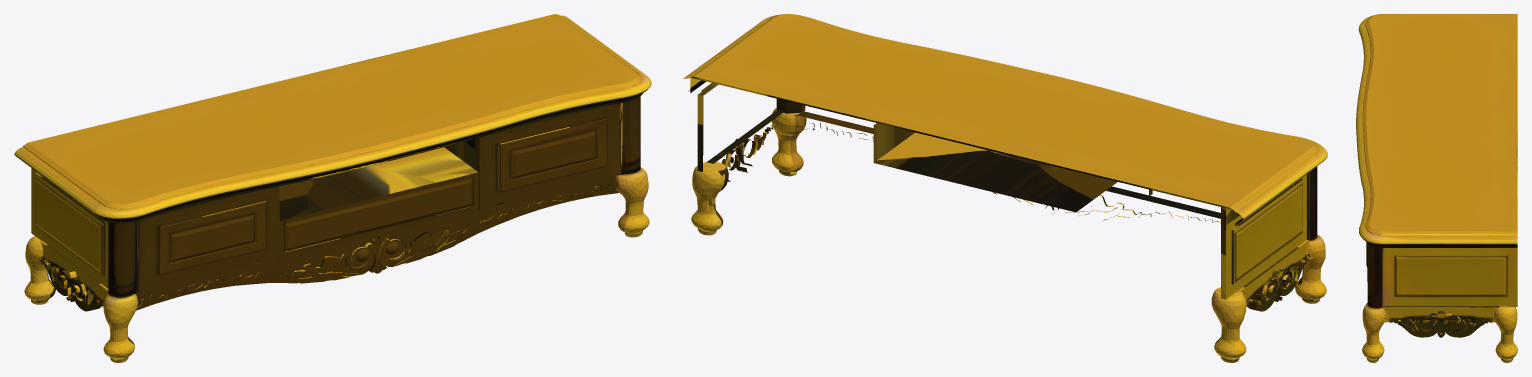
The model's file is edited_mesh.glb.
3 renders of one model, left to right at view 1: azimuth 30°, elevation 25°; view 2: azimuth 150°, elevation 25°; view 3: azimuth 270°, elevation 25°, orthographic. The views are drawn at different scales.
Parts seen in each view (by area): view 1: solid_001_wire; view 2: solid_001_wire; view 3: solid_001_wire.
Boxes of the visible parts, x1,y1,x2,y2 form: solid_001_wire: (14, 14, 651, 362); solid_001_wire: (682, 14, 1327, 362); solid_001_wire: (1356, 14, 1517, 362).
Size of the model in its own units: 2 by 0.5386 by 0.6003.
1 material, 1 textured.
